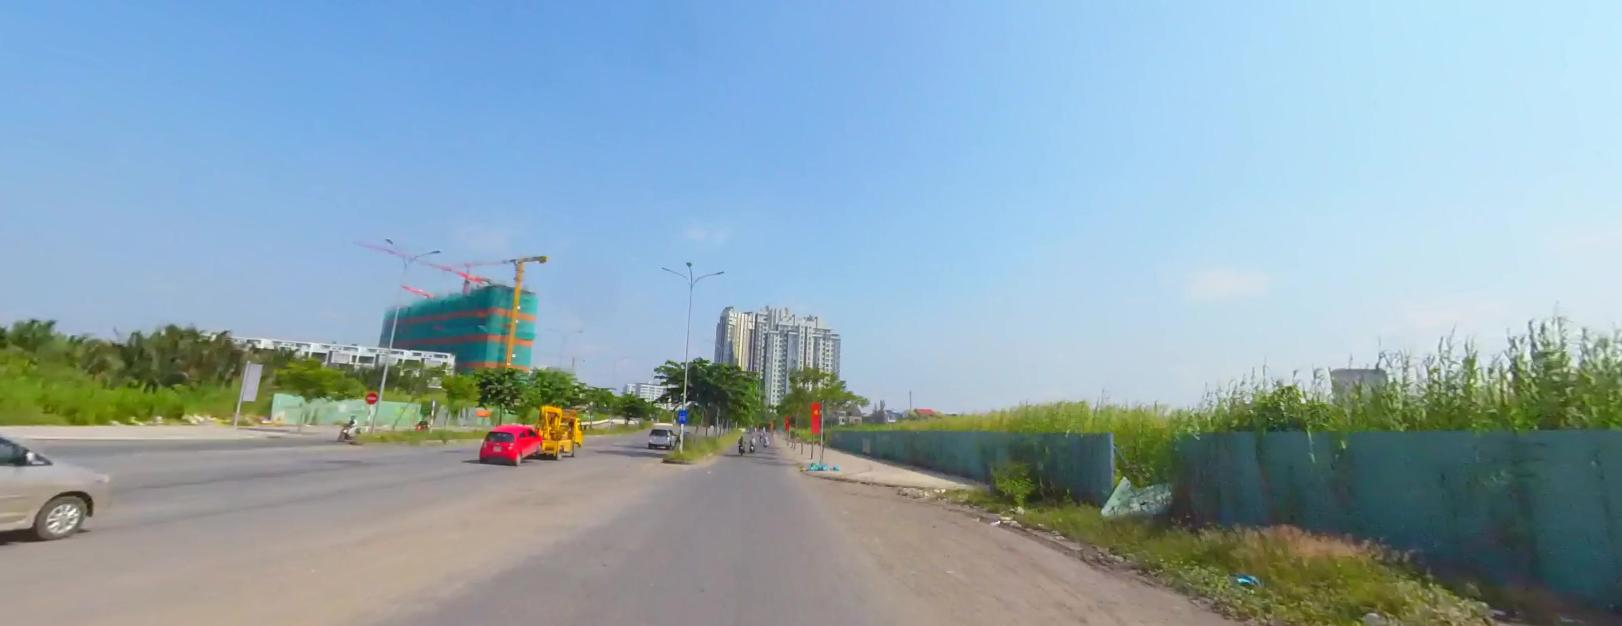Cam nguoc chieu: (363, 390, 377, 403)
